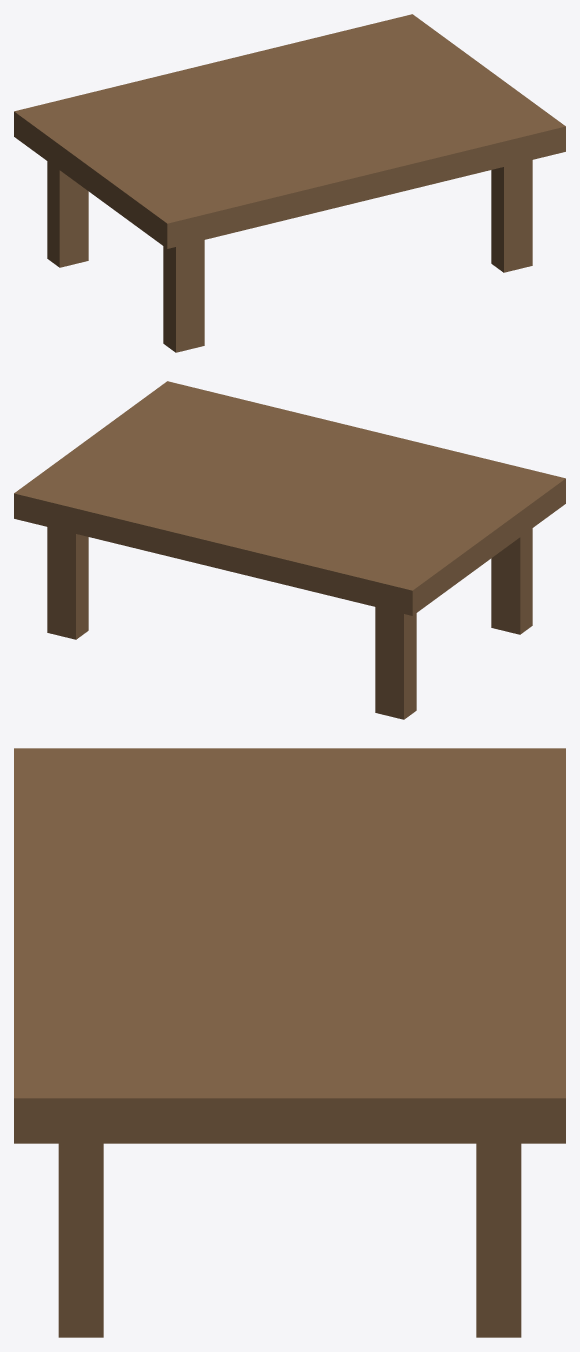
Rendered from coffeetablenormal.fbx.
The picture shows the model from 3 angles, top to bottom: view 1: azimuth 30°, elevation 25°; view 2: azimuth 150°, elevation 25°; view 3: azimuth 270°, elevation 25°; orthographic projection. The views are drawn at different scales.
Parts seen in each view (by area): view 1: Cube.003; view 2: Cube.003; view 3: Cube.003.
Boxes of the visible parts, x1,y1,x2,y2 form: Cube.003: (14, 14, 565, 352); Cube.003: (14, 381, 565, 719); Cube.003: (14, 748, 565, 1337).
Bounding box in the file's own units: 60 × 20.62 × 40.
